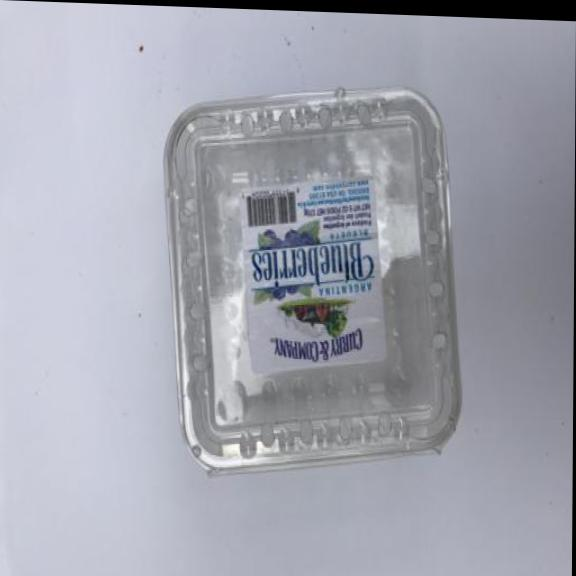Plastik: (158, 76, 469, 496)
